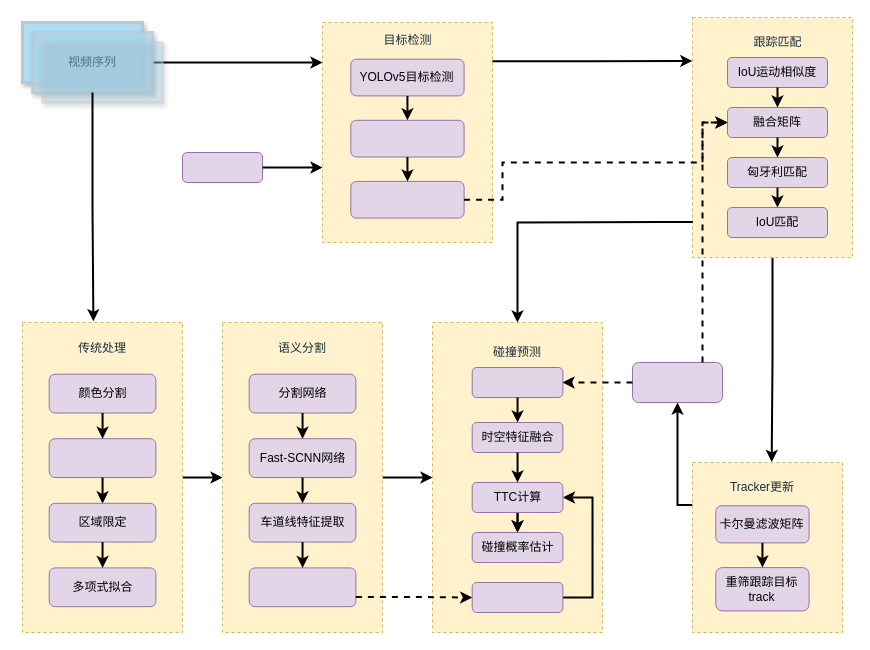
Image size: 870x650. Some labels were removed from this diagram. The shapes that lost their labels are listed below. From the top down, each one's centre as x and y in pixels, then its label:
At (407,138): "目标框筛选".
At (222,167): "模型蒸馏".
At (407,199): "特征距离".
At (517,382): "多帧历史信息".
At (677,382): "跟踪目标tracker".
At (102,458): "多尺度DoG边缘检测".
At (302,587): "可行区域划分".
At (517,597): "位置轨迹预测".
